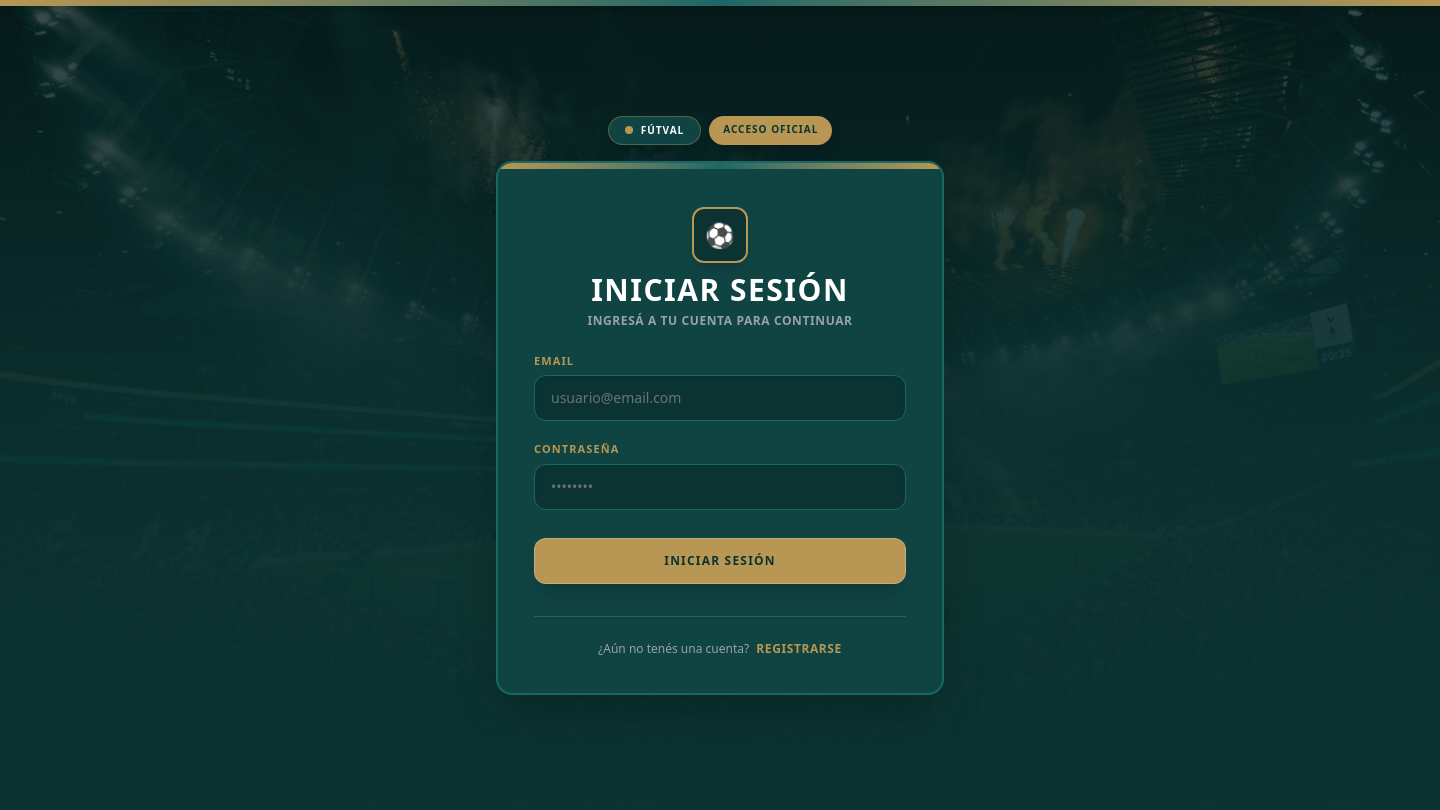
Test: LoginPage › deshabilita el botón mientras isLoading = true
This screenshot has width=1440, height=810.
Type "test@mail.com" into the field labelled "Email" at (720, 398), box [534,375,906,421]
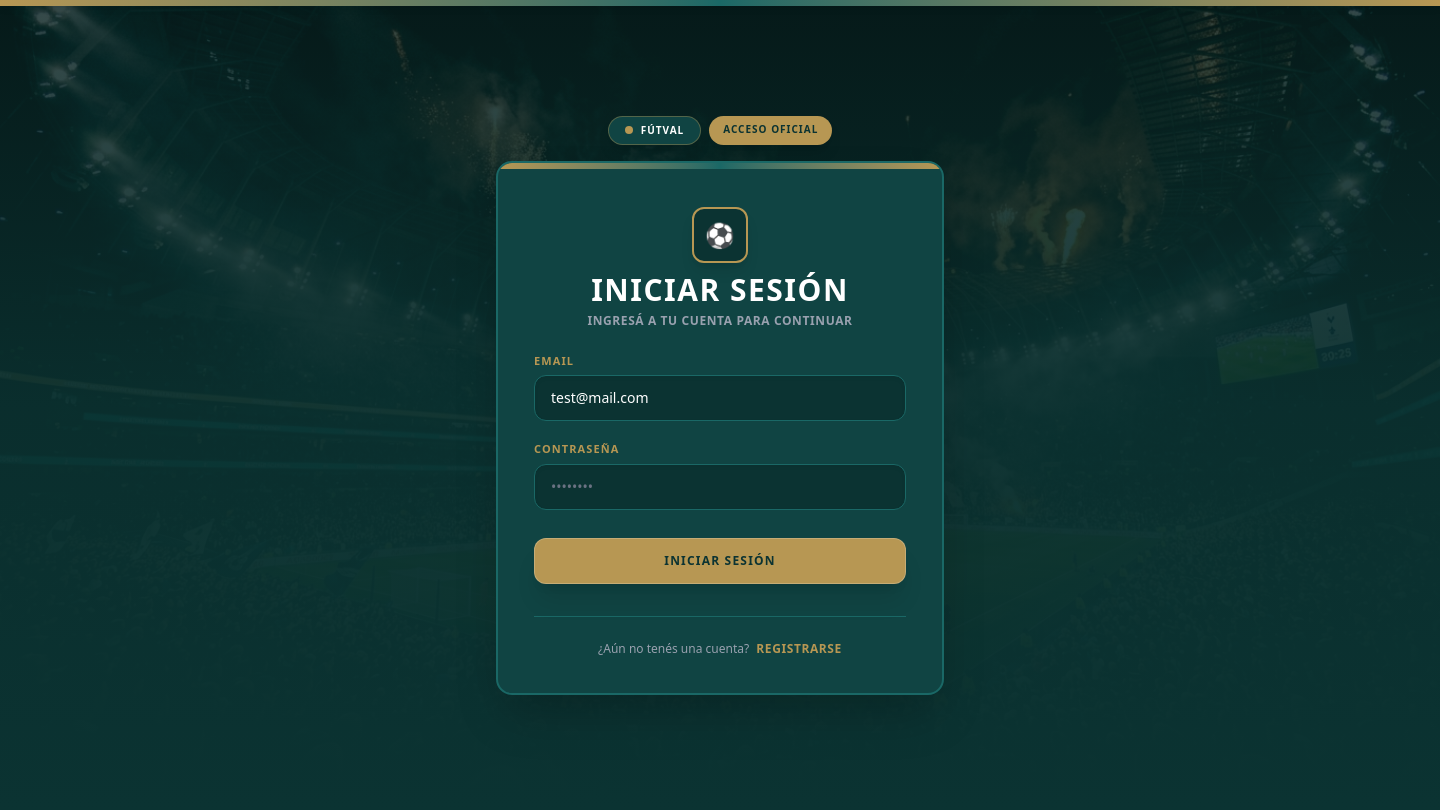
Type "Pass1234!" into the password field labelled "Contraseña" at (720, 486), box [534,464,906,510]
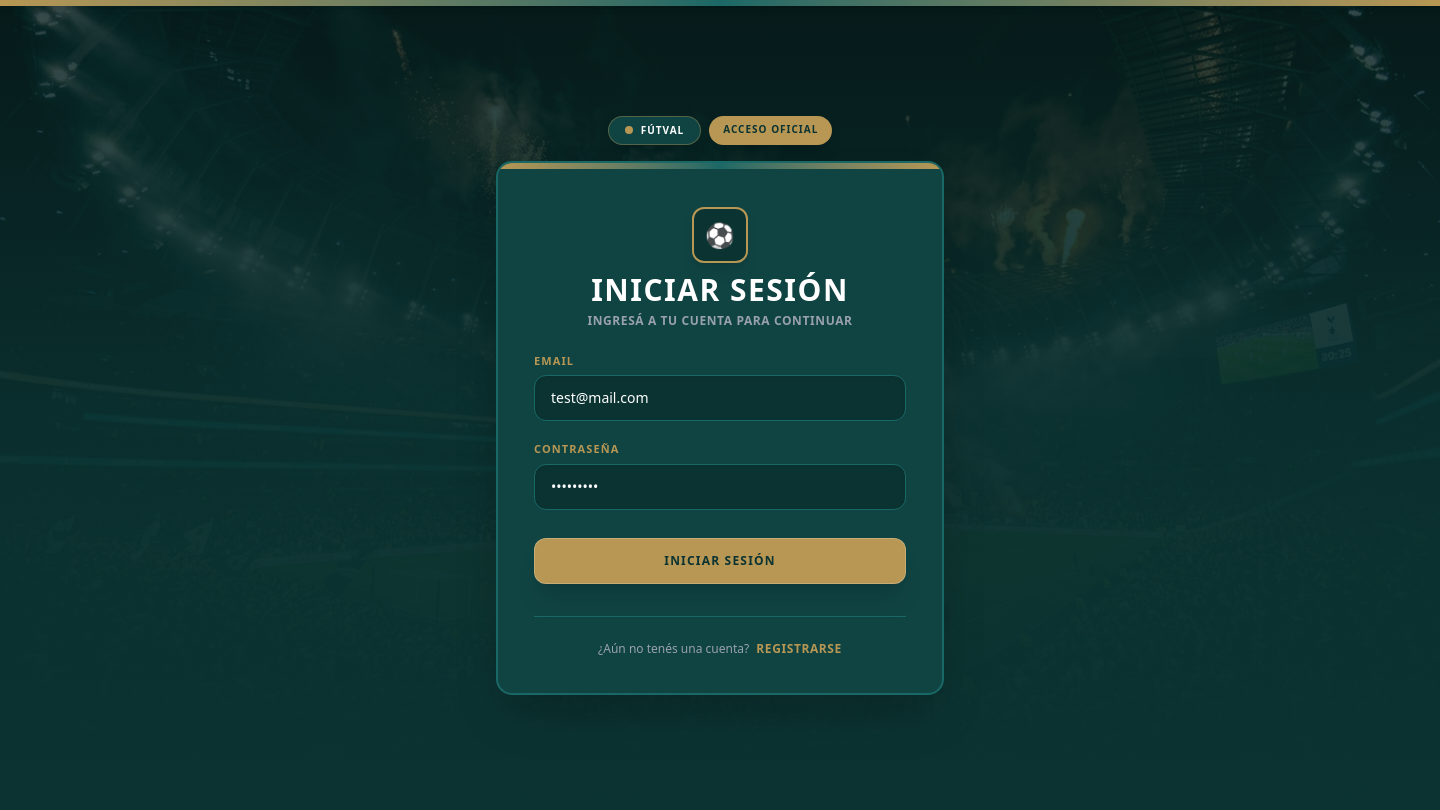
Click the button "Iniciar sesión" at (720, 560), box [534,538,906,584]
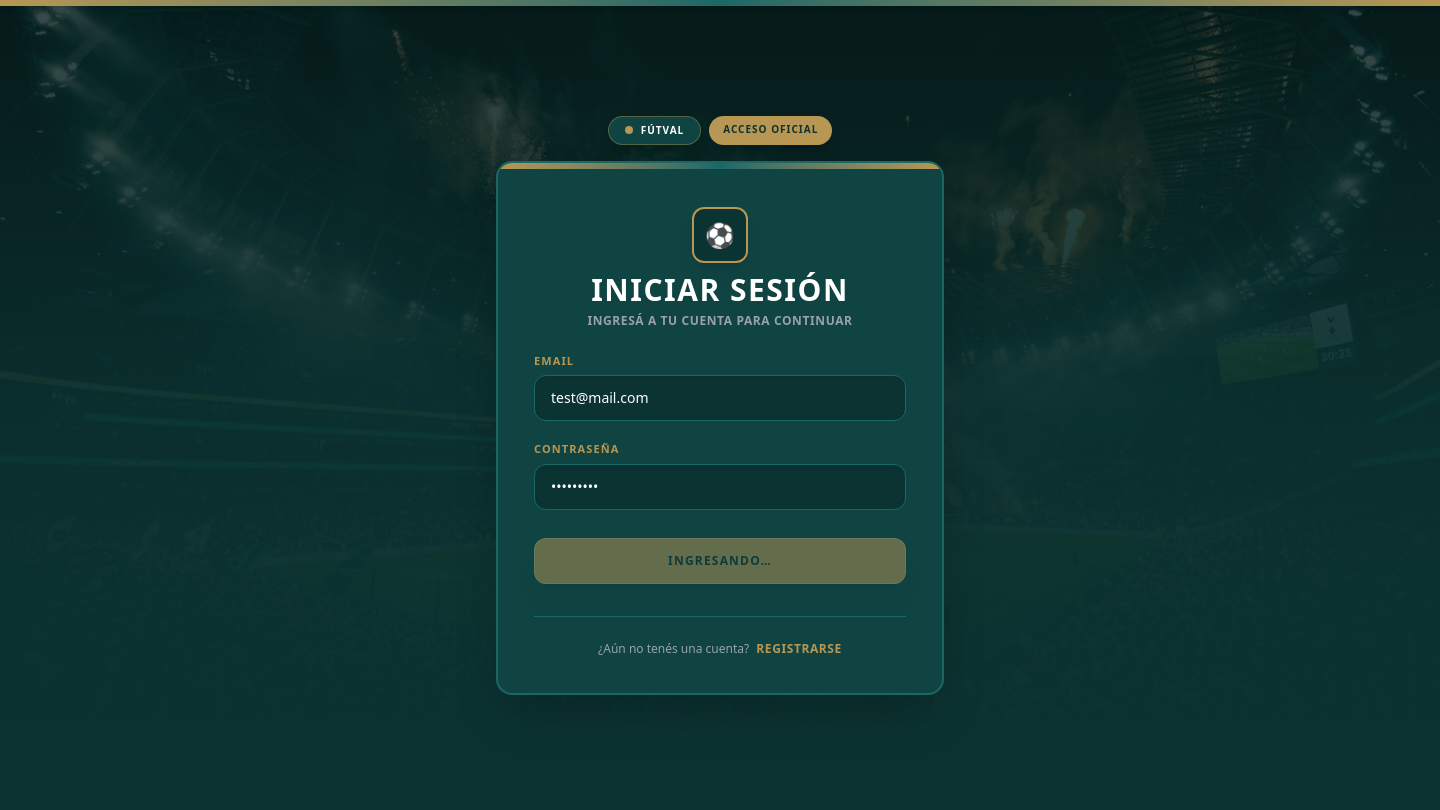
Check: the button "Ingresando…" is disabled, box [534,538,906,584]
